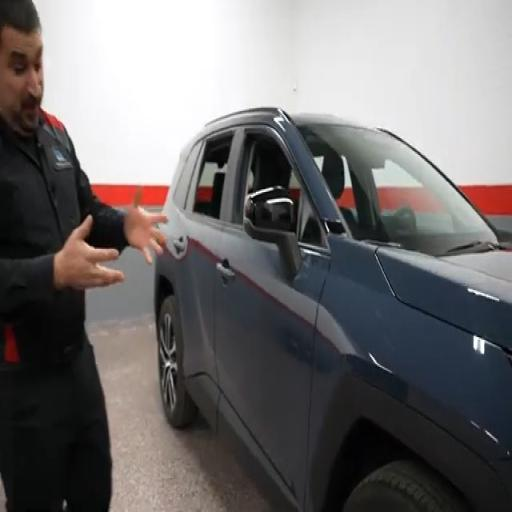door: (216, 126, 329, 504), (167, 130, 234, 425)
hood: (377, 247, 511, 349)
side_mirror: (244, 187, 302, 278)
tire: (157, 296, 197, 429)
wheel: (344, 461, 467, 511), (158, 296, 196, 428)
window: (234, 130, 326, 248), (187, 133, 233, 219), (173, 143, 200, 209)
windshield: (299, 124, 497, 254)
